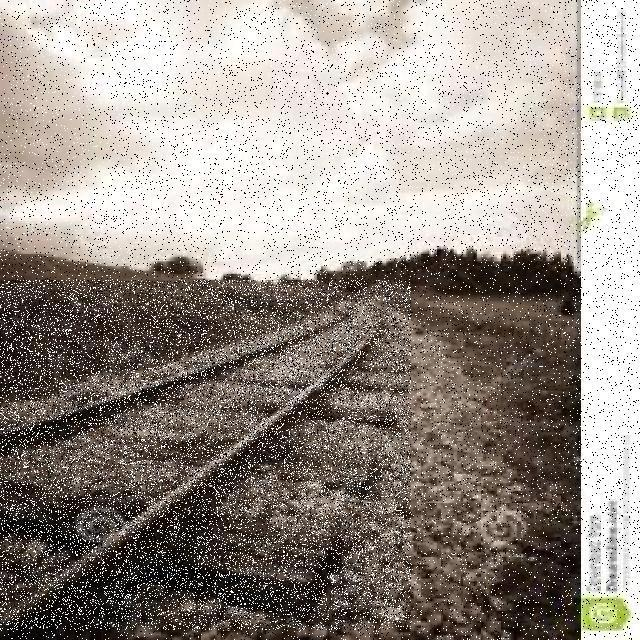rail: (1, 281, 411, 630)
